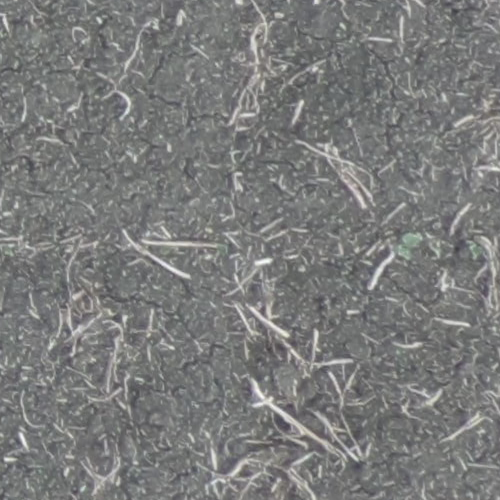plant: (391, 233, 424, 259)
